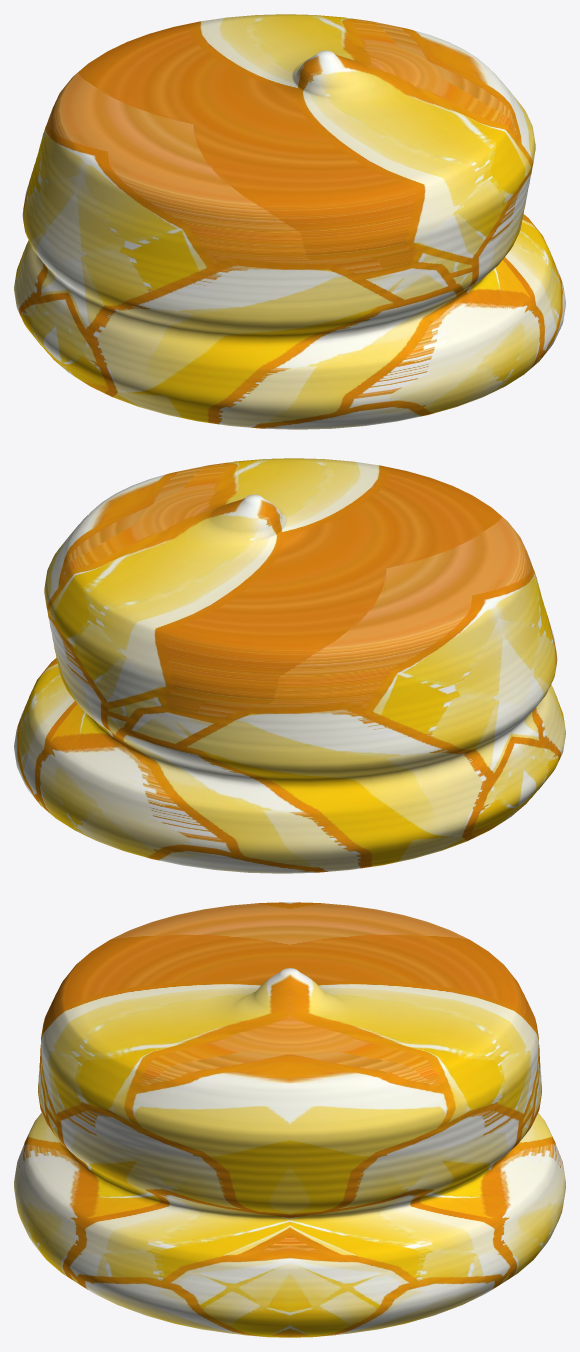
Rendered from crystal_cluster.glb.
3 renders of one model, top to bottom at view 1: azimuth 30°, elevation 25°; view 2: azimuth 150°, elevation 25°; view 3: azimuth 270°, elevation 25°, orthographic.
Parts seen in each view (by area): view 1: crystal_cluster; view 2: crystal_cluster; view 3: crystal_cluster.
Part boxes in pixels (x1,y1,x2,y2): crystal_cluster: (14, 14, 565, 429); crystal_cluster: (14, 458, 565, 873); crystal_cluster: (14, 902, 565, 1337).
Size of the model in its own units: 0.9955 by 0.625 by 0.9877.
1 material, 1 textured.
